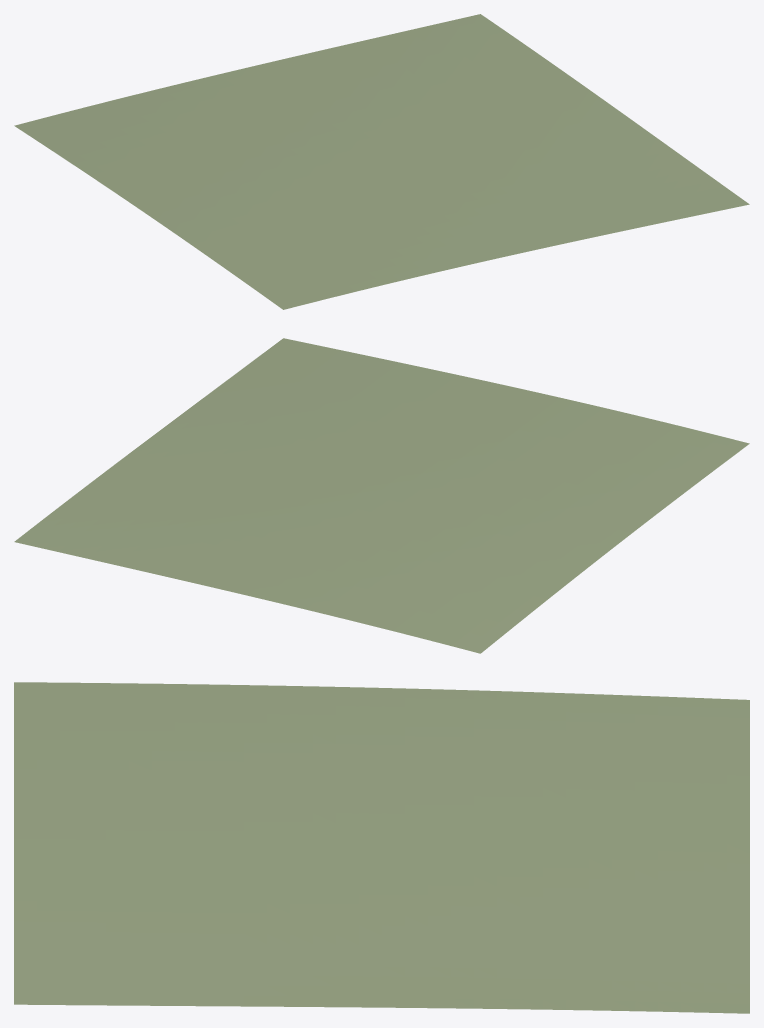
The model's file is expanse-0-24.glb.
3 views of the same model, one above another, from view 1: azimuth 30°, elevation 25°; view 2: azimuth 150°, elevation 25°; view 3: azimuth 270°, elevation 25° (orthographic). The views are drawn at different scales.
Visible parts, largest first — view 1: expanse-0-24; view 2: expanse-0-24; view 3: expanse-0-24.
Part boxes in pixels (x1,y1,x2,y2): expanse-0-24: (14, 14, 749, 309); expanse-0-24: (14, 338, 749, 653); expanse-0-24: (14, 682, 749, 1013).
Size of the model in its own units: 256 by 8.17 by 256.
